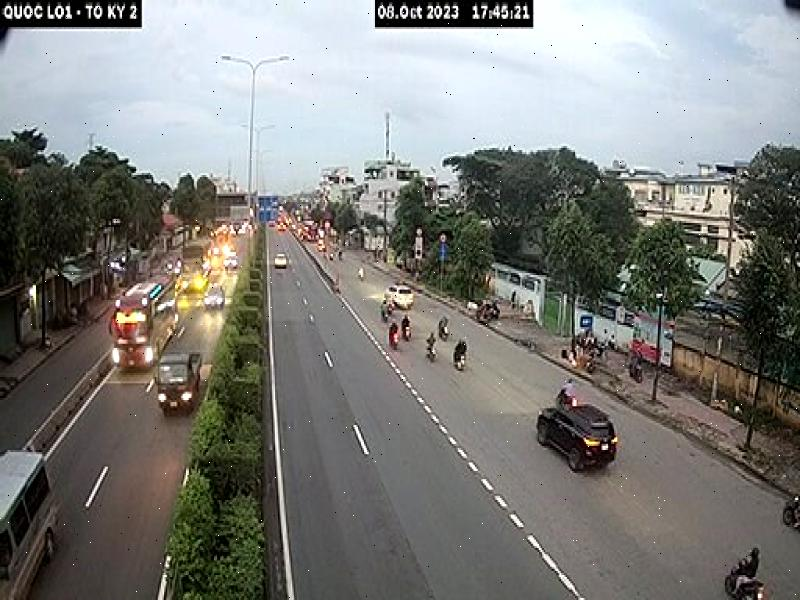bus: (107, 277, 179, 375)
car: (0, 443, 63, 593), (530, 399, 624, 477), (382, 279, 417, 311), (204, 285, 228, 316), (274, 255, 290, 268), (226, 256, 240, 269)
motorcycle: (721, 558, 764, 600), (779, 484, 800, 536), (388, 326, 404, 351)
truck: (156, 350, 202, 408), (179, 238, 209, 304)
